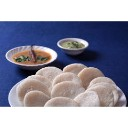idly: (17, 80, 51, 97), (90, 86, 115, 108), (53, 80, 83, 96), (79, 66, 104, 81), (75, 92, 100, 107), (35, 65, 62, 78), (63, 61, 86, 75), (45, 98, 78, 107)
